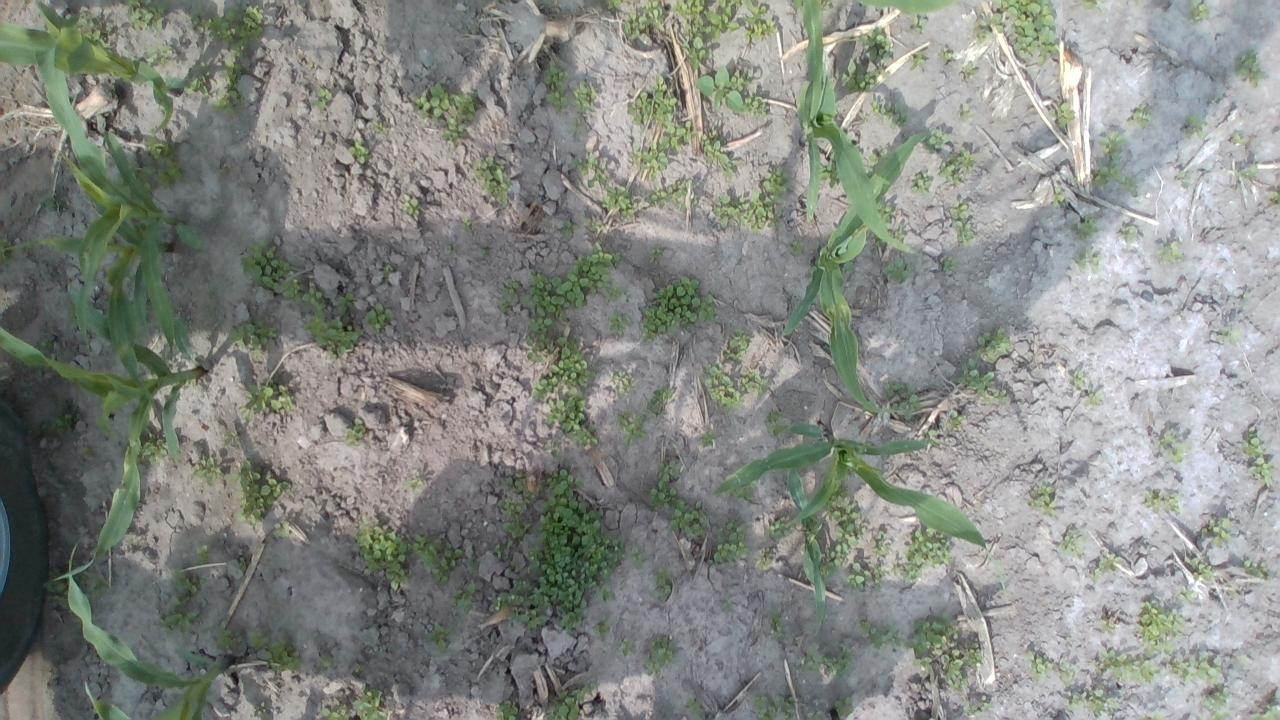Maize: (0, 293, 207, 591), (709, 418, 1013, 599), (36, 50, 206, 356), (0, 202, 181, 463), (785, 129, 930, 414), (798, 0, 921, 259), (62, 544, 234, 720), (0, 0, 184, 130), (783, 464, 828, 637), (849, 0, 952, 17), (826, 706, 850, 720)
Weeds: (525, 468, 625, 633), (909, 614, 986, 688), (640, 272, 718, 344), (672, 0, 741, 67), (990, 0, 1060, 64), (298, 286, 360, 358), (354, 516, 411, 592), (692, 66, 771, 118), (411, 82, 476, 144), (232, 460, 292, 524), (239, 238, 300, 300), (891, 528, 950, 586), (128, 136, 188, 192), (632, 122, 689, 180), (159, 567, 206, 635), (522, 270, 588, 318), (741, 168, 787, 235), (206, 4, 264, 57), (410, 530, 463, 587), (1135, 600, 1185, 658), (574, 242, 622, 301), (244, 628, 302, 674), (958, 356, 1008, 408), (626, 75, 678, 125), (550, 333, 596, 387), (826, 484, 870, 539), (240, 380, 296, 421), (1100, 650, 1160, 688), (471, 152, 508, 212), (800, 644, 854, 684), (212, 56, 248, 116), (854, 614, 906, 653), (544, 680, 594, 720), (1168, 652, 1226, 685), (703, 360, 741, 410), (699, 132, 738, 178), (490, 580, 530, 624), (741, 0, 780, 45), (936, 146, 978, 187), (228, 320, 278, 354), (711, 520, 750, 563), (1241, 430, 1273, 481), (1066, 689, 1118, 720), (645, 463, 679, 510), (623, 0, 665, 37), (125, 0, 172, 33), (855, 26, 895, 64), (883, 380, 919, 422), (648, 180, 698, 210), (524, 318, 556, 364), (1094, 158, 1136, 193), (974, 324, 1012, 362), (670, 498, 706, 538), (542, 61, 570, 112), (498, 496, 530, 539), (839, 59, 878, 93), (871, 96, 910, 130), (751, 691, 796, 720), (818, 538, 854, 574), (602, 180, 635, 219), (616, 408, 648, 448), (571, 152, 606, 188), (946, 202, 976, 244), (548, 397, 586, 430), (1236, 52, 1270, 88), (74, 566, 112, 598), (1200, 514, 1234, 549), (844, 560, 881, 592), (46, 400, 83, 432), (1022, 483, 1056, 517), (1141, 488, 1182, 516), (78, 17, 112, 50), (354, 685, 386, 720), (137, 434, 172, 466), (643, 638, 675, 672), (1154, 430, 1186, 464), (1204, 686, 1236, 720), (1087, 551, 1123, 581), (722, 328, 752, 364), (364, 303, 398, 334), (1023, 648, 1052, 682), (711, 192, 736, 231), (739, 368, 769, 400), (815, 152, 841, 188), (186, 60, 212, 96), (192, 454, 222, 485), (884, 257, 916, 285), (448, 579, 476, 610), (650, 566, 675, 600), (344, 417, 371, 448), (497, 279, 520, 315), (766, 607, 788, 643), (1058, 532, 1088, 558), (571, 80, 596, 111), (1184, 556, 1212, 583), (920, 127, 950, 152), (427, 621, 452, 651), (316, 699, 351, 720), (1100, 132, 1128, 158), (865, 148, 888, 178), (1241, 556, 1272, 578), (970, 16, 992, 47), (765, 411, 791, 437), (648, 388, 673, 415), (308, 86, 332, 114), (214, 624, 238, 652), (769, 521, 798, 543), (1160, 240, 1186, 264), (1054, 100, 1076, 128), (347, 137, 368, 165), (834, 694, 856, 720), (872, 196, 892, 224), (1128, 104, 1151, 128), (1185, 114, 1207, 139), (1074, 213, 1096, 238), (911, 170, 936, 192), (684, 695, 706, 720), (592, 618, 612, 644), (606, 310, 626, 336), (870, 532, 890, 558), (962, 700, 992, 717), (1190, 0, 1210, 25), (573, 428, 599, 447), (148, 44, 175, 62), (1074, 254, 1098, 274), (1244, 707, 1280, 720), (0, 236, 16, 265), (190, 545, 210, 568), (496, 701, 520, 720), (190, 4, 207, 30), (1058, 660, 1078, 682), (532, 378, 554, 398), (402, 478, 426, 496), (627, 546, 645, 570), (270, 521, 290, 542), (402, 193, 421, 215), (612, 369, 631, 391), (102, 260, 118, 286), (944, 410, 965, 429), (1220, 327, 1242, 345), (40, 193, 64, 209), (941, 255, 960, 275), (1099, 618, 1118, 637), (1174, 586, 1198, 601), (616, 639, 634, 659), (580, 216, 600, 234), (1052, 187, 1068, 209), (1238, 164, 1260, 180), (1084, 389, 1104, 406), (889, 224, 906, 244), (502, 475, 522, 492), (223, 428, 240, 447), (1070, 370, 1086, 390), (838, 260, 858, 276), (560, 218, 574, 240), (165, 78, 187, 92), (924, 430, 943, 446), (1176, 170, 1192, 189), (960, 62, 976, 80), (492, 542, 508, 560), (1232, 652, 1250, 668), (464, 555, 479, 574), (958, 102, 974, 119), (912, 16, 928, 33), (908, 51, 924, 68), (648, 246, 664, 262), (701, 432, 718, 447), (940, 49, 956, 64), (316, 654, 332, 669), (754, 558, 771, 572), (48, 580, 64, 594), (1125, 225, 1138, 242), (1231, 133, 1248, 145), (1083, 0, 1105, 9), (370, 120, 386, 132), (82, 450, 98, 462), (36, 336, 50, 349), (790, 239, 801, 255), (1145, 711, 1164, 720), (1268, 191, 1280, 205), (462, 216, 474, 230), (819, 0, 834, 11), (721, 598, 736, 609), (606, 0, 624, 9), (256, 701, 266, 716), (871, 238, 883, 250), (238, 558, 248, 572), (446, 241, 455, 256), (382, 264, 393, 276), (1242, 292, 1250, 308), (808, 711, 822, 720), (791, 0, 805, 8), (185, 377, 198, 385), (354, 663, 364, 673), (478, 248, 488, 256)
